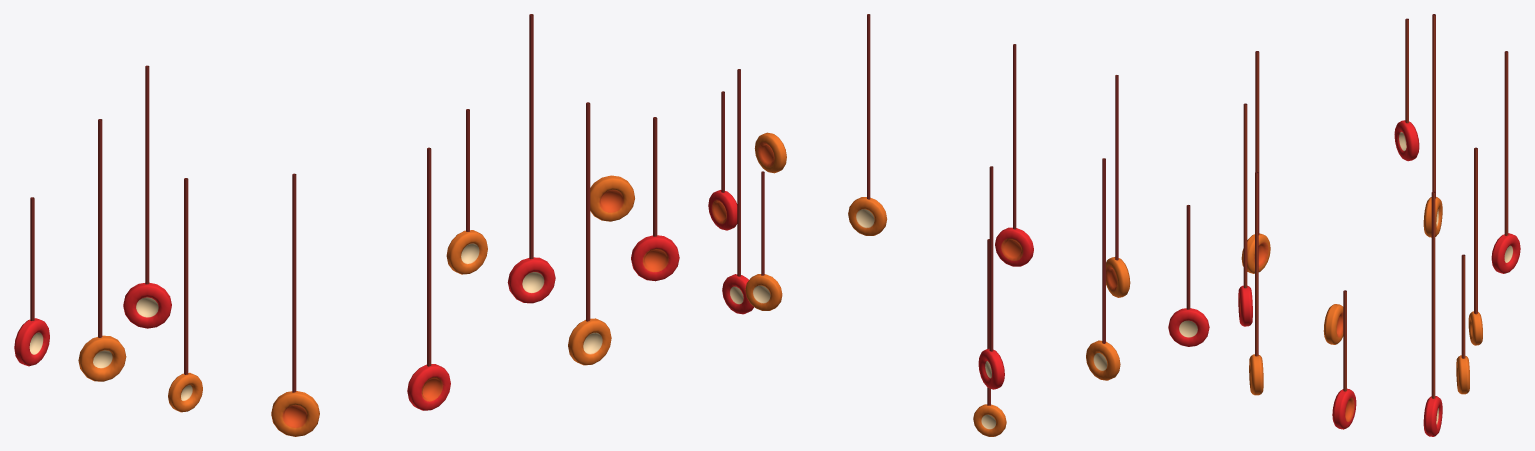
Rendered from danglings.fbx.
3 renders of one model, left to right at view 1: azimuth 30°, elevation 25°; view 2: azimuth 150°, elevation 25°; view 3: azimuth 270°, elevation 25°, orthographic. The views are drawn at different scales.
Parts seen in each view (by area): view 1: strangs, pCylinder68, pCylinder66, pCylinder72, pCylinder67, pCylinder65, pCylinder75, pCylinder69, pCylinder70, pCylinder73, pCylinder71, pCylinder74; view 2: strangs, pCylinder71, pCylinder70, pCylinder69, pCylinder73, pCylinder67, pCylinder75, pCylinder72, pCylinder65, pCylinder74, pCylinder66, pCylinder68; view 3: strangs, pCylinder66, pCylinder71, pCylinder72, pCylinder68, pCylinder75, pCylinder65, pCylinder69, pCylinder70, pCylinder67, pCylinder73, pCylinder74.
Part boxes in pixels (x1,y1,x2,y2): strangs: (30, 14, 657, 392); pCylinder68: (271, 391, 319, 436); pCylinder66: (123, 282, 171, 328); pCylinder72: (631, 235, 679, 281); pCylinder67: (78, 335, 126, 381); pCylinder65: (507, 257, 555, 303); pCylinder75: (590, 175, 634, 221); pCylinder69: (568, 318, 611, 365); pCylinder70: (407, 364, 450, 410); pCylinder73: (446, 230, 487, 274); pCylinder71: (14, 318, 49, 366); pCylinder74: (168, 372, 202, 412); strangs: (721, 14, 1190, 405); pCylinder71: (1168, 308, 1209, 346); pCylinder70: (995, 227, 1033, 266); pCylinder69: (848, 197, 887, 235); pCylinder73: (745, 274, 782, 310); pCylinder67: (1086, 340, 1120, 380); pCylinder75: (754, 132, 786, 173); pCylinder72: (708, 190, 737, 230); pCylinder65: (722, 274, 753, 314); pCylinder74: (973, 404, 1006, 436); pCylinder66: (978, 348, 1004, 389); pCylinder68: (1106, 257, 1130, 297); strangs: (1243, 14, 1508, 398); pCylinder66: (1491, 233, 1520, 273); pCylinder71: (1394, 120, 1419, 161); pCylinder72: (1332, 388, 1356, 429); pCylinder68: (1241, 233, 1270, 273); pCylinder75: (1323, 304, 1343, 344); pCylinder65: (1423, 396, 1442, 436); pCylinder69: (1249, 354, 1263, 395); pCylinder70: (1238, 285, 1252, 326); pCylinder67: (1423, 197, 1442, 237); pCylinder73: (1456, 355, 1469, 394); pCylinder74: (1468, 311, 1482, 345).
Size of the model in its own units: 279 by 143 by 129.
